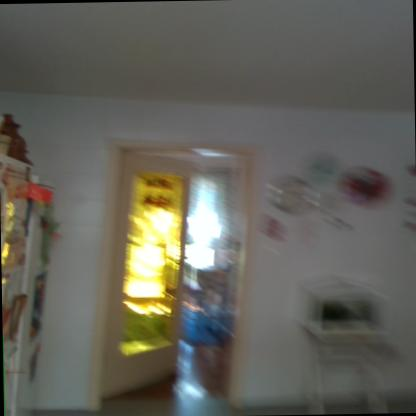semi: (89, 128, 275, 416)
